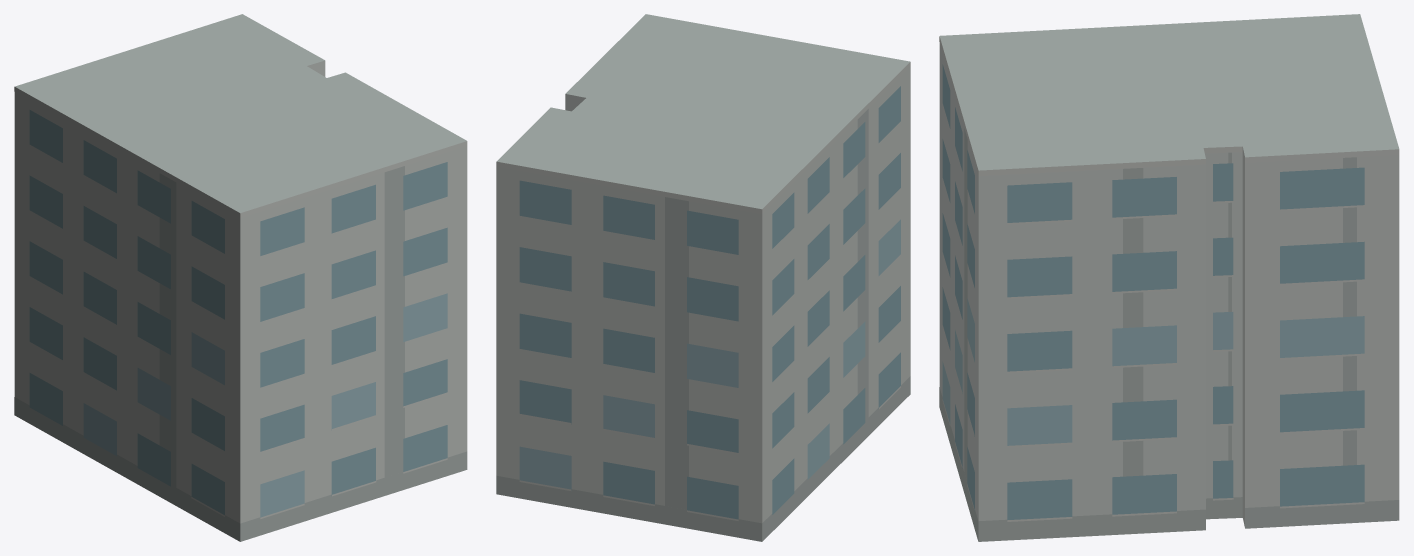
Rendered from survey-upis-32700159.glb.
3 views of the same model, side by side, from view 1: azimuth 30°, elevation 25°; view 2: azimuth 150°, elevation 25°; view 3: azimuth 270°, elevation 25° (orthographic). The views are drawn at different scales.
Parts seen in each view (by area): view 1: survey-upis-32700159.tmp; view 2: survey-upis-32700159.tmp; view 3: survey-upis-32700159.tmp.
Part boxes in pixels (x1,y1,x2,y2): survey-upis-32700159.tmp: [14, 14, 467, 541]; survey-upis-32700159.tmp: [496, 14, 910, 541]; survey-upis-32700159.tmp: [939, 14, 1399, 541].
Bounding box in the file's own units: 14.29 × 15.8 × 17.75.
